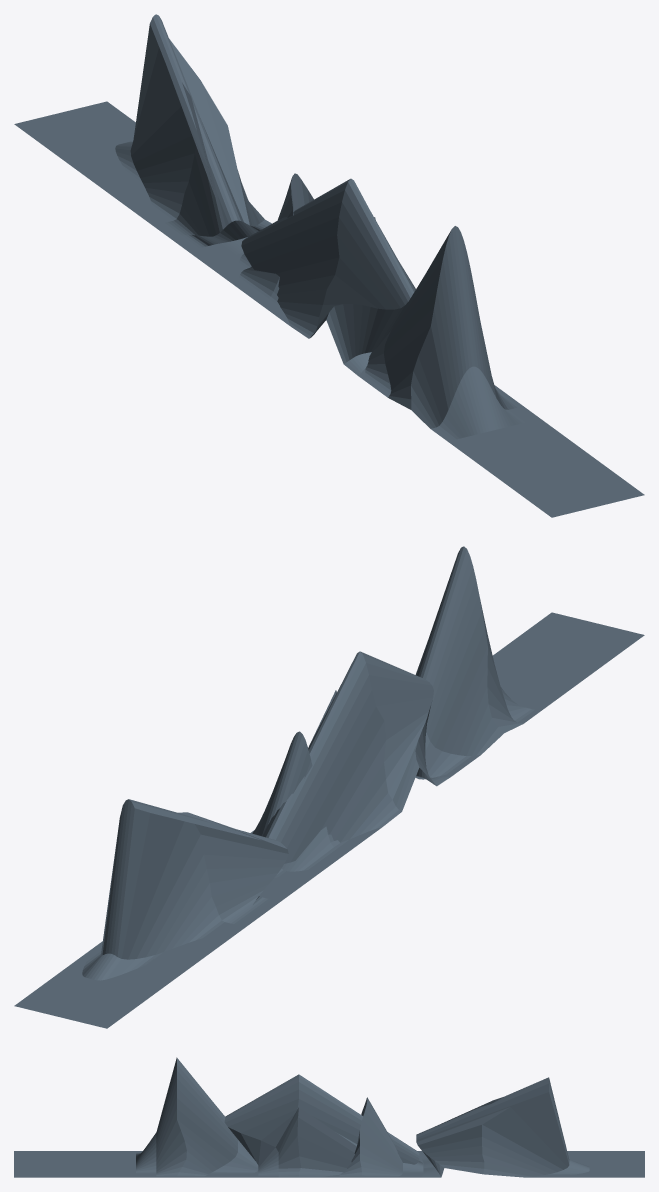
File: mountain_mid2.glb
3 renders of one model, top to bottom at view 1: azimuth 30°, elevation 25°; view 2: azimuth 150°, elevation 25°; view 3: azimuth 270°, elevation 25°, orthographic. The views are drawn at different scales.
Parts seen in each view (by area): view 1: Plane; view 2: Plane; view 3: Plane.
Boxes of the visible parts, left/top/right/bottom form: Plane: left=14, top=14, right=644, bottom=517; Plane: left=14, top=546, right=644, bottom=1028; Plane: left=14, top=1057, right=644, bottom=1177.
Bounding box in the file's own units: 2 × 3.7 × 20.
